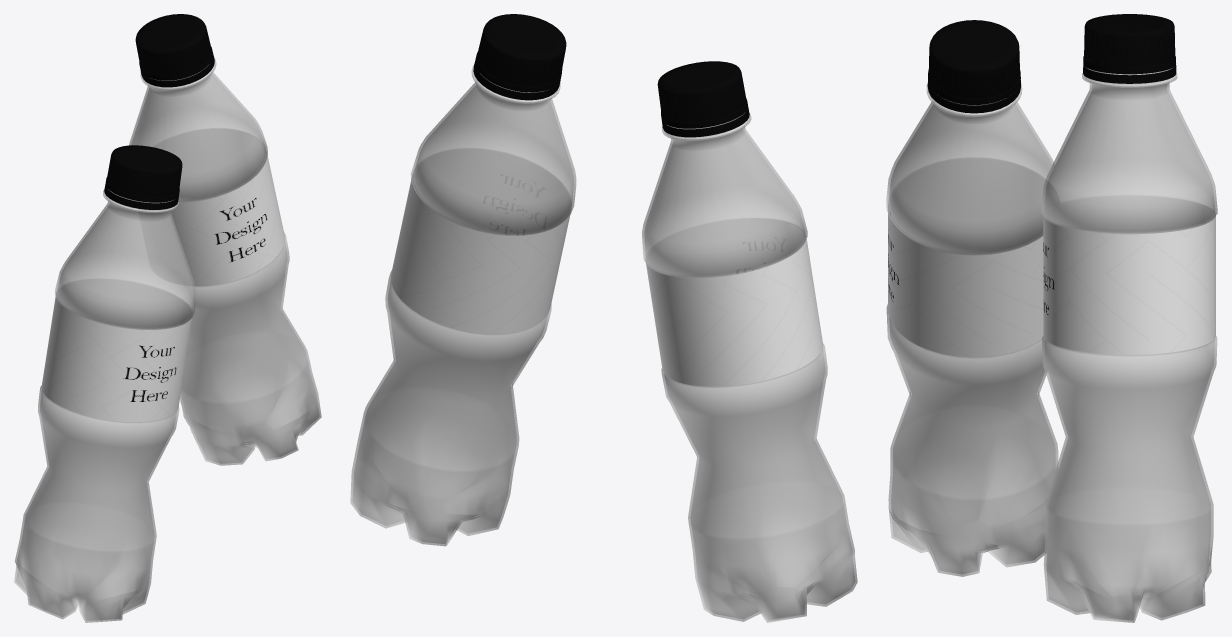
Rendered from Soft Drinks A-3.glb.
3 renders of one model, left to right at view 1: azimuth 30°, elevation 25°; view 2: azimuth 150°, elevation 25°; view 3: azimuth 270°, elevation 25°, orthographic. The views are drawn at different scales.
Parts seen in each view (by area): view 1: Bottle_Bottle.001_Cylinder.008, Bottle_Bottle.001_Cylinder.001, Label_Bottle.001_Cylinder.007, Label_Bottle.001_Cylinder.001, Plastic_Neck_Bottle.001_Cylinder.001, Plastic_Neck_Bottle.001_Cylinder.006; view 2: Bottle_Bottle.001_Cylinder.008, Bottle_Bottle.001_Cylinder.001, Label_Bottle.001_Cylinder.007, Label_Bottle.001_Cylinder.001, Plastic_Neck_Bottle.001_Cylinder.001, Plastic_Neck_Bottle.001_Cylinder.006; view 3: Bottle_Bottle.001_Cylinder.001, Bottle_Bottle.001_Cylinder.008, Label_Bottle.001_Cylinder.001, Label_Bottle.001_Cylinder.007, Plastic_Neck_Bottle.001_Cylinder.006, Plastic_Neck_Bottle.001_Cylinder.001.
Part boxes in pixels (bbox=[...]): Bottle_Bottle.001_Cylinder.008: bbox=[14, 189, 195, 622]; Bottle_Bottle.001_Cylinder.001: bbox=[129, 57, 321, 465]; Label_Bottle.001_Cylinder.007: bbox=[41, 293, 192, 422]; Label_Bottle.001_Cylinder.001: bbox=[169, 148, 284, 286]; Plastic_Neck_Bottle.001_Cylinder.001: bbox=[135, 14, 214, 87]; Plastic_Neck_Bottle.001_Cylinder.006: bbox=[104, 145, 182, 209]; Bottle_Bottle.001_Cylinder.008: bbox=[642, 113, 857, 622]; Bottle_Bottle.001_Cylinder.001: bbox=[350, 64, 576, 546]; Label_Bottle.001_Cylinder.007: bbox=[645, 233, 823, 386]; Label_Bottle.001_Cylinder.001: bbox=[391, 174, 571, 333]; Plastic_Neck_Bottle.001_Cylinder.001: bbox=[473, 14, 566, 100]; Plastic_Neck_Bottle.001_Cylinder.006: bbox=[657, 61, 749, 137]; Bottle_Bottle.001_Cylinder.001: bbox=[1041, 67, 1217, 622]; Bottle_Bottle.001_Cylinder.008: bbox=[886, 82, 1058, 576]; Label_Bottle.001_Cylinder.001: bbox=[1043, 212, 1215, 354]; Label_Bottle.001_Cylinder.007: bbox=[888, 204, 1043, 357]; Plastic_Neck_Bottle.001_Cylinder.006: bbox=[927, 20, 1020, 113]; Plastic_Neck_Bottle.001_Cylinder.001: bbox=[1083, 14, 1176, 83].
Size of the model in its own units: 1.93 by 2.64 by 1.26.
3 materials, 1 textured.
